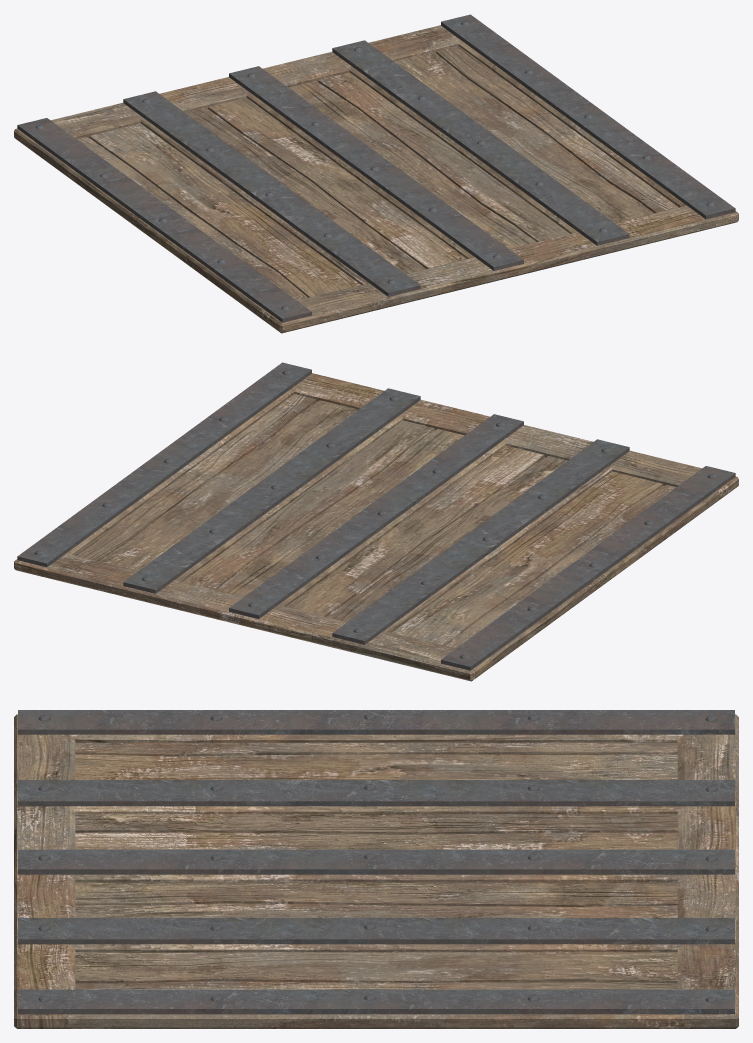
The model's file is SM_Crate_Lid_A_02.fbx.
The picture shows the model from 3 angles, top to bottom: view 1: azimuth 30°, elevation 25°; view 2: azimuth 150°, elevation 25°; view 3: azimuth 270°, elevation 25°; orthographic projection. The views are drawn at different scales.
Parts seen in each view (by area): view 1: SM_Crate_Lid_A_02_LOD0; view 2: SM_Crate_Lid_A_02_LOD0; view 3: SM_Crate_Lid_A_02_LOD0.
Part boxes in pixels (left/top/right/bottom): SM_Crate_Lid_A_02_LOD0: left=14, top=14, right=738, bottom=333; SM_Crate_Lid_A_02_LOD0: left=14, top=362, right=738, bottom=681; SM_Crate_Lid_A_02_LOD0: left=14, top=710, right=738, bottom=1028.
Bounding box in the file's own units: 88.45 × 89.39 × 2.99.
2 materials, 2 textured.
